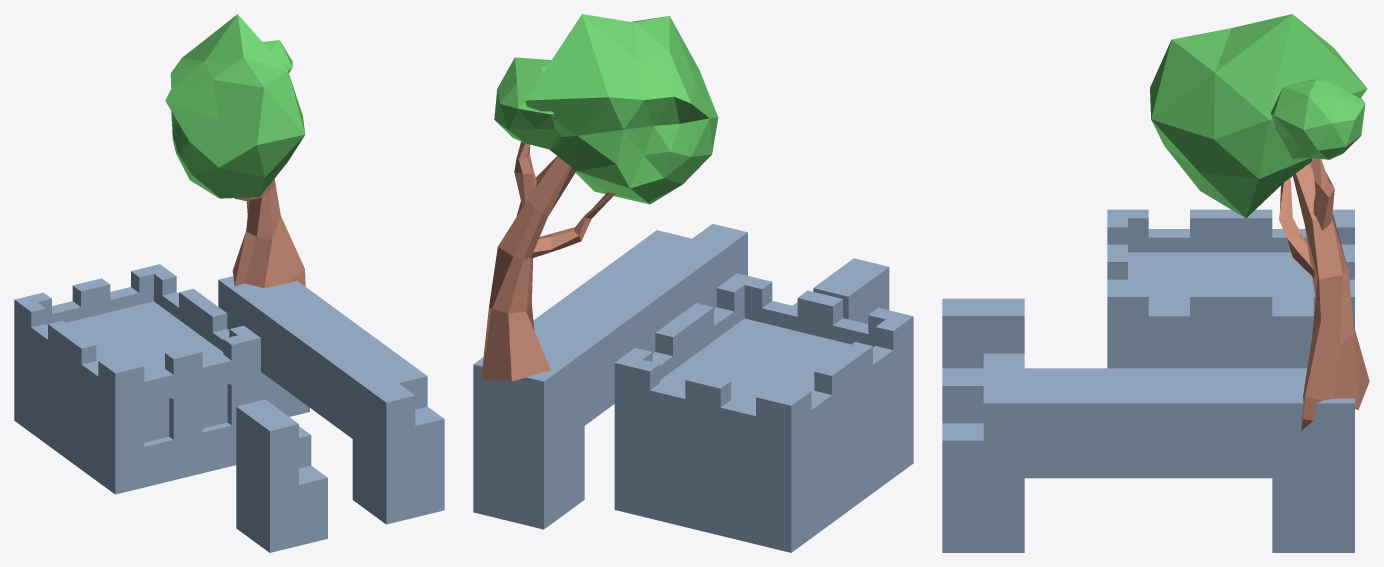
Rendered from lityleCastleIslandDemo.fbx.
3 views of the same model, side by side, from view 1: azimuth 30°, elevation 25°; view 2: azimuth 150°, elevation 25°; view 3: azimuth 270°, elevation 25° (orthographic). The views are drawn at different scales.
Parts seen in each view (by area): view 1: Cube.002, Cube, Icosphere.001, Cube.001, Cylinder; view 2: Cube.002, Cube, Icosphere.001, Cylinder, Icosphere, Cube.001, Cylinder.002, Cylinder.001; view 3: Cube, Cube.002, Icosphere.001, Cylinder, Cube.001, Icosphere, Cylinder.002, Cylinder.001.
Part boxes in pixels (x1,y1,x2,y2): Cube.002: [14, 264, 260, 494]; Cube: [218, 276, 444, 524]; Icosphere.001: [165, 14, 305, 198]; Cube.001: [236, 399, 327, 552]; Cylinder: [232, 179, 305, 287]; Cube.002: [614, 273, 913, 552]; Cube: [473, 224, 747, 529]; Icosphere.001: [525, 14, 718, 204]; Cylinder: [481, 156, 576, 381]; Icosphere: [494, 57, 561, 149]; Cube.001: [793, 258, 889, 323]; Cylinder.002: [531, 192, 615, 258]; Cylinder.001: [514, 141, 536, 206]; Cube: [942, 368, 1354, 552]; Cube.002: [1107, 209, 1354, 368]; Icosphere.001: [1150, 14, 1367, 218]; Cylinder: [1293, 162, 1369, 430]; Cube.001: [942, 298, 1024, 368]; Icosphere: [1270, 79, 1365, 159]; Cylinder.002: [1278, 178, 1314, 277]; Cylinder.001: [1311, 158, 1334, 230].
Bounding box in the file's own units: 928 × 1338 × 1036.
